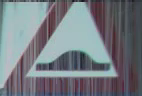Speed Breaker ahead: (15, 2, 134, 85)
